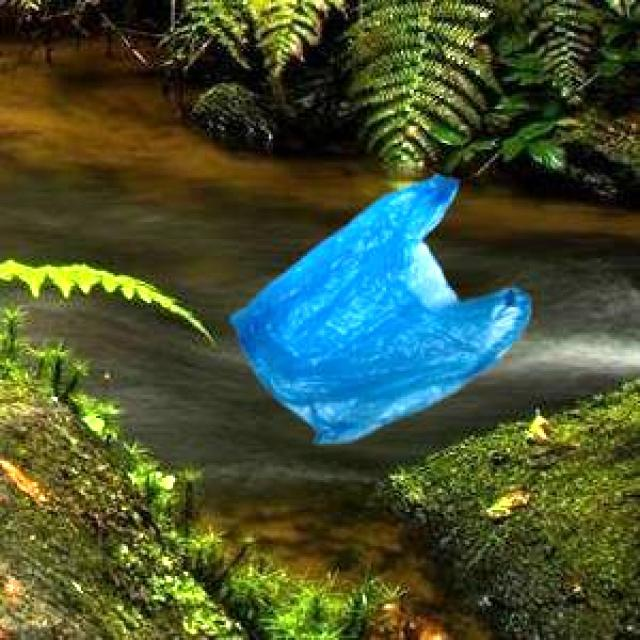Plastic_Bag: (229, 172, 528, 440)
